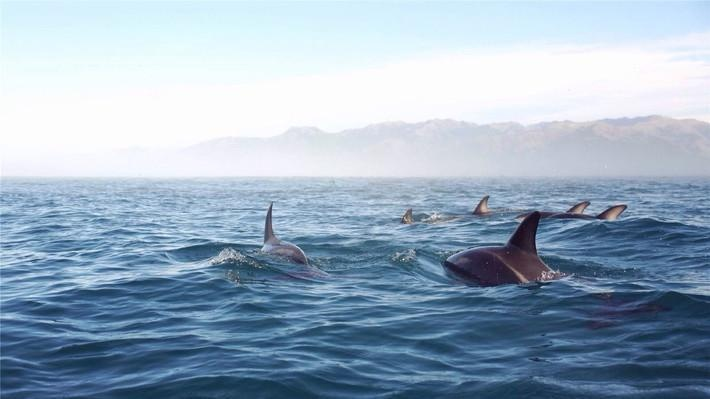fish: (439, 212, 672, 331)
